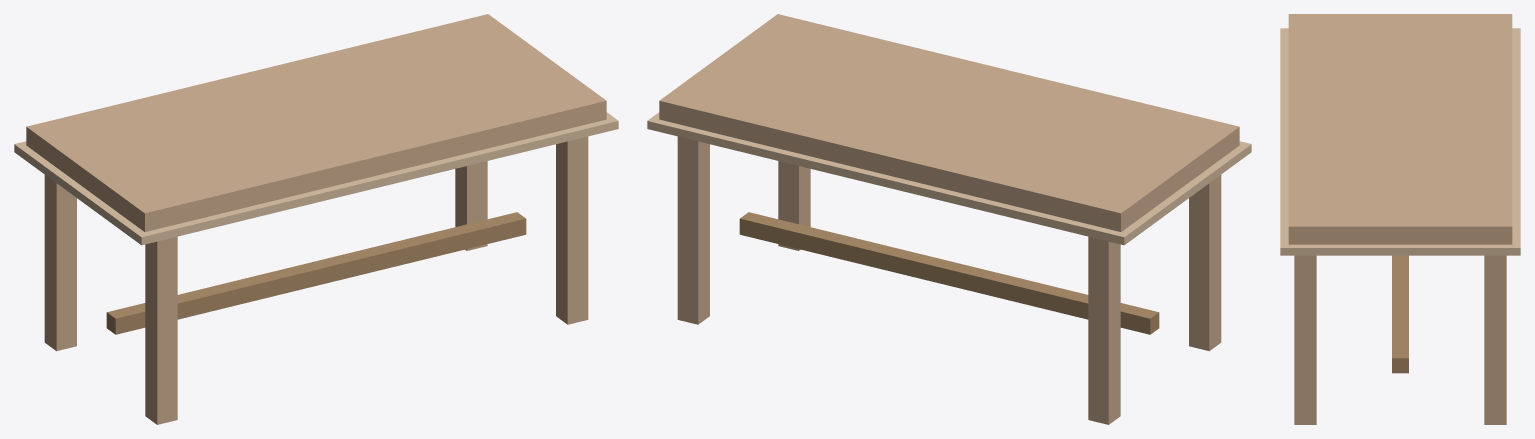
File: kitchen_table.glb
3 renders of one model, left to right at view 1: azimuth 30°, elevation 25°; view 2: azimuth 150°, elevation 25°; view 3: azimuth 270°, elevation 25°, orthographic. The views are drawn at different scales.
Parts seen in each view (by area): view 1: Table; view 2: Table; view 3: Table.
Boxes of the visible parts, bbox=[...] form: Table: bbox=[14, 14, 618, 424]; Table: bbox=[647, 14, 1251, 424]; Table: bbox=[1280, 14, 1520, 424].
Size of the model in its own units: 1.86 by 0.81 by 0.86.
